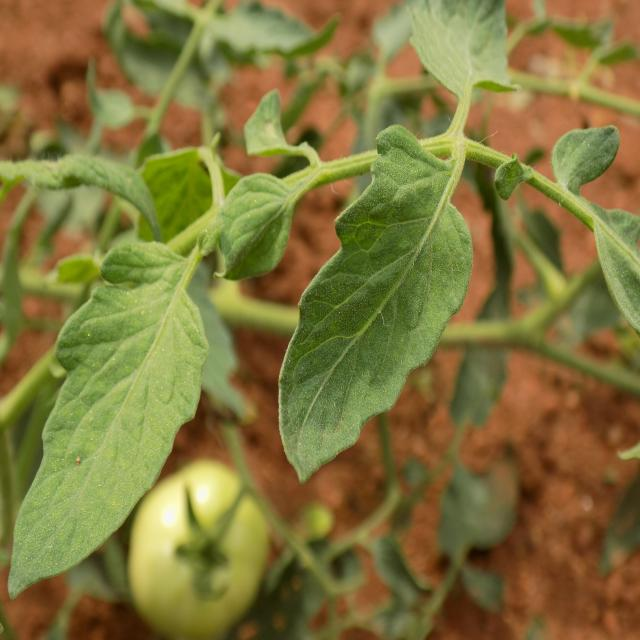tomato_healthy: (280, 126, 474, 482), (11, 254, 209, 596)
